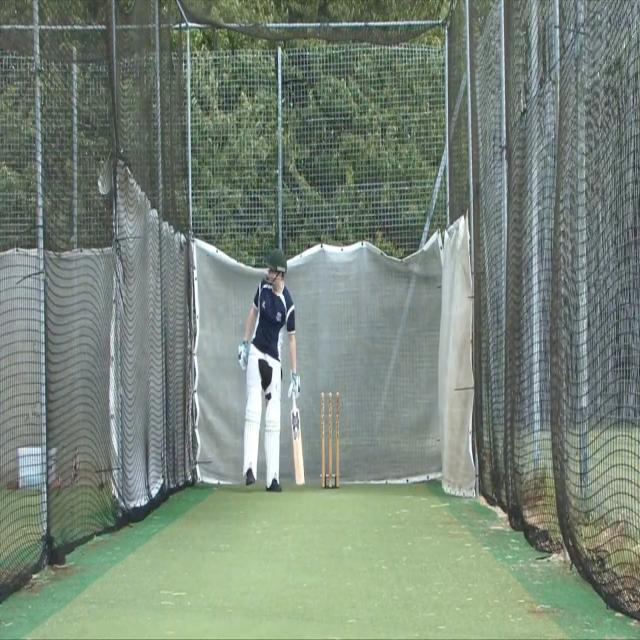batsman: (237, 247, 306, 495)
